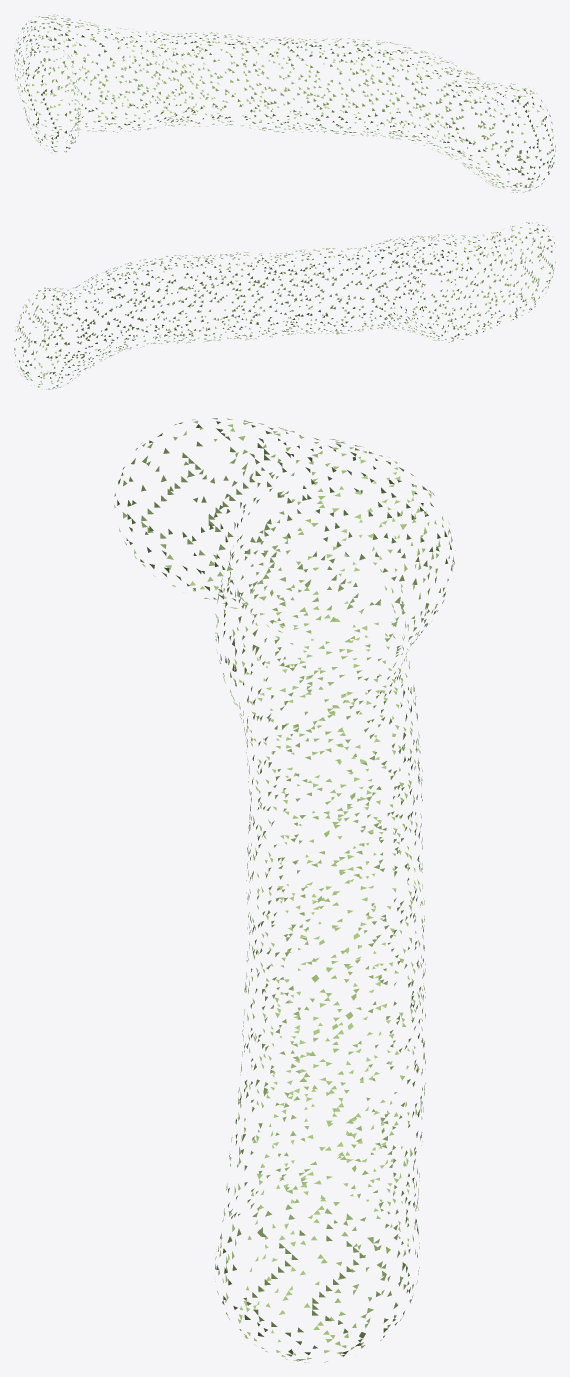
File: morph_012.glb
3 renders of one model, top to bottom at view 1: azimuth 30°, elevation 25°; view 2: azimuth 150°, elevation 25°; view 3: azimuth 270°, elevation 25°, orthographic. The views are drawn at different scales.
Bounding box in the file's own units: 121 × 60.34 × 37.1.
